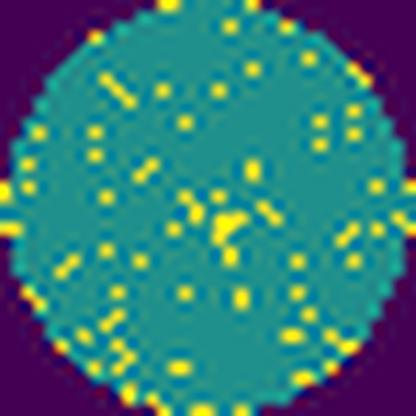Center: (210, 203, 257, 264)
